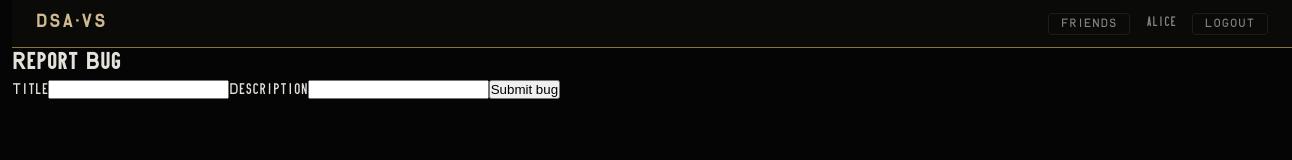
it: reports › submits bug report
Type "UI bug" into the field labelled "Title".
click(139, 90); type("UI bug")  # box [48,80,229,99]
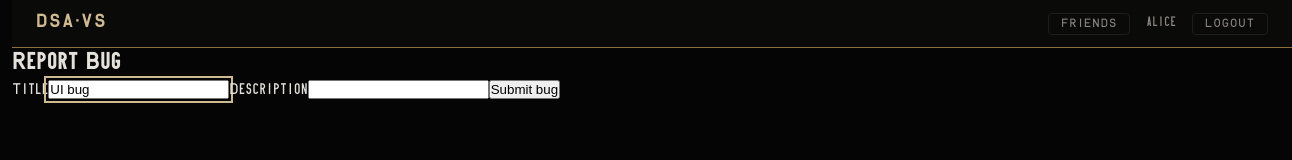
Type "steps" into the field labelled "Description".
click(398, 90); type("steps")  # box [308,80,489,99]
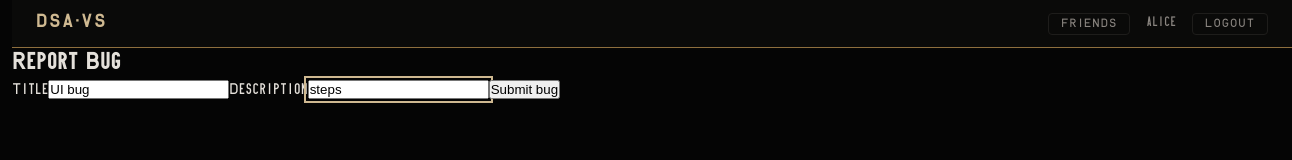
Click the button "Submit bug".
click(524, 90)  # box [489,80,560,99]
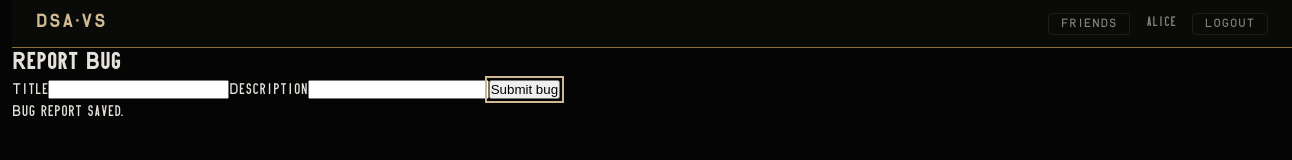
Check: the text "Bug report saved." is shown, box [12,106,123,119]
